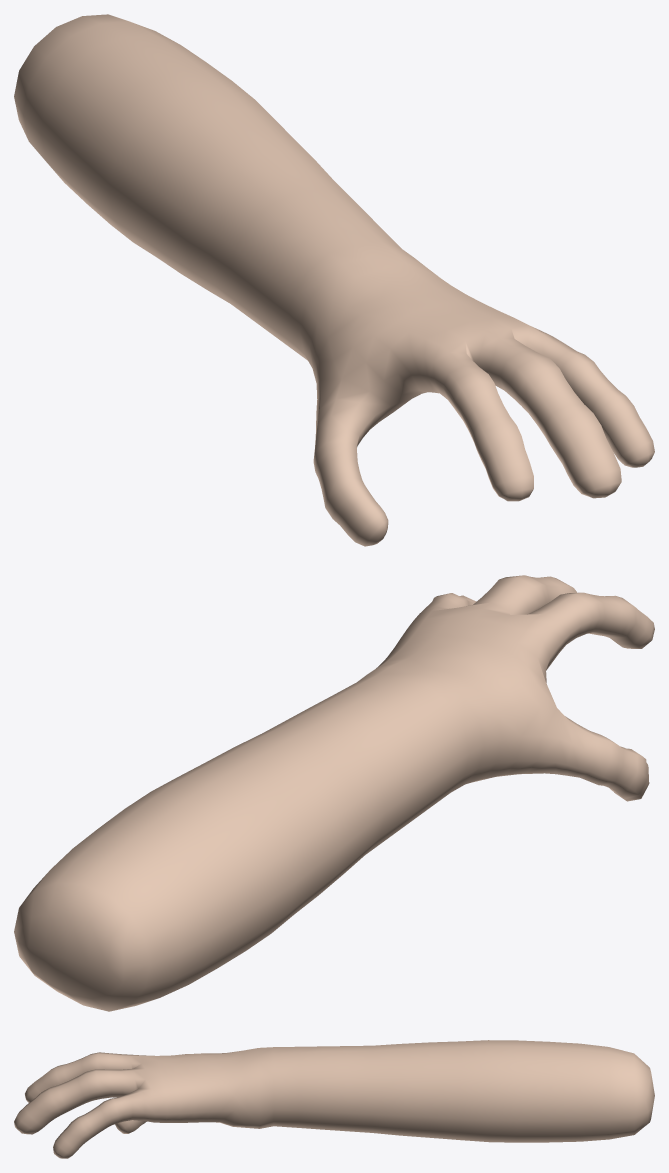
The model's file is LeftHand.fbx.
3 renders of one model, top to bottom at view 1: azimuth 30°, elevation 25°; view 2: azimuth 150°, elevation 25°; view 3: azimuth 270°, elevation 25°, orthographic. The views are drawn at different scales.
Visible parts, largest first — view 1: alienhand4; view 2: alienhand4; view 3: alienhand4.
Boxes of the visible parts, x1,y1,x2,y2 form: alienhand4: [14, 14, 654, 546]; alienhand4: [14, 575, 654, 1011]; alienhand4: [14, 1040, 654, 1158].
Bounding box in the file's own units: 17.28 × 13.16 × 61.72.
